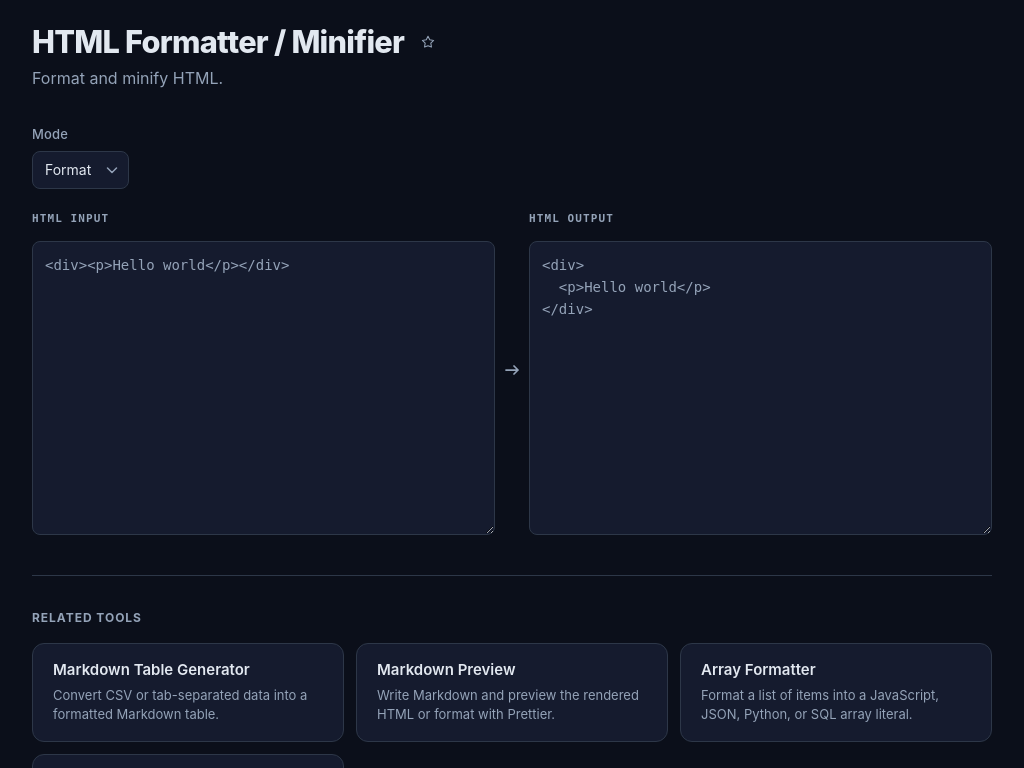
Test: HtmlFormatter › minifies HTML in minify mode
Select "Minify" in the dropdown labelled "Mode": (80, 170) [32,150,129,188]
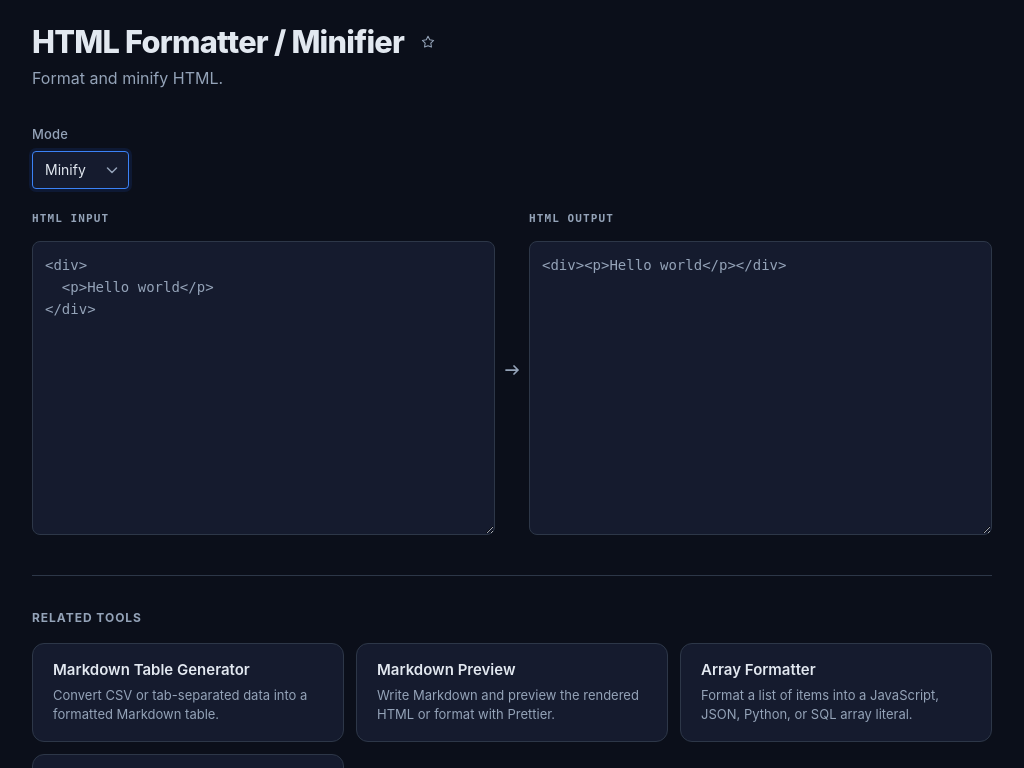
In the text box named "html input": (264, 388) [32,240,495,535], type "<div>  <p>hi</p>  </div>"
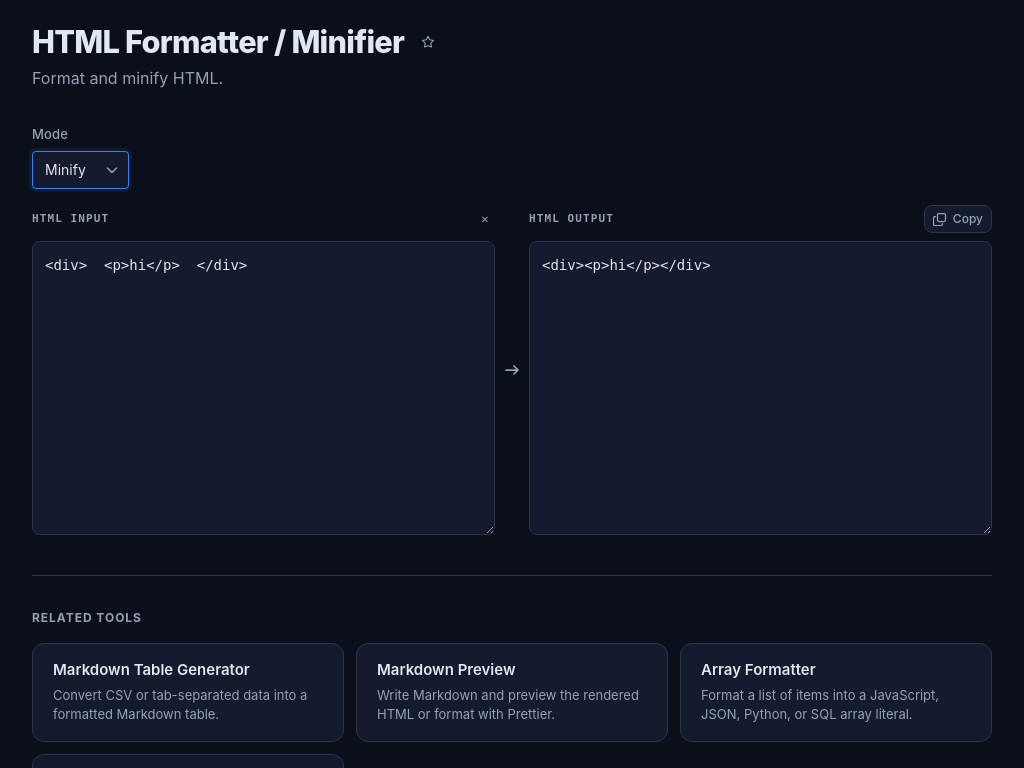
Result: the text box named "html output" holds "<div><p>hi</p></div>" at [529,240,992,535]
